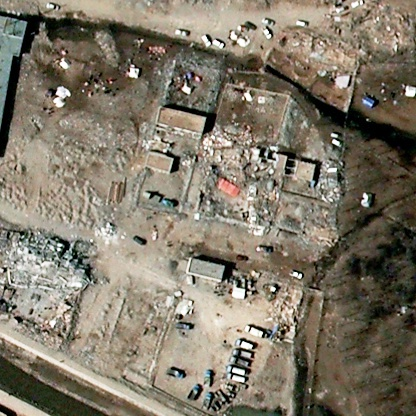collapsed: (274, 1, 415, 72), (201, 125, 282, 236), (5, 227, 96, 290), (9, 291, 83, 352), (300, 156, 345, 247), (270, 282, 303, 346)
